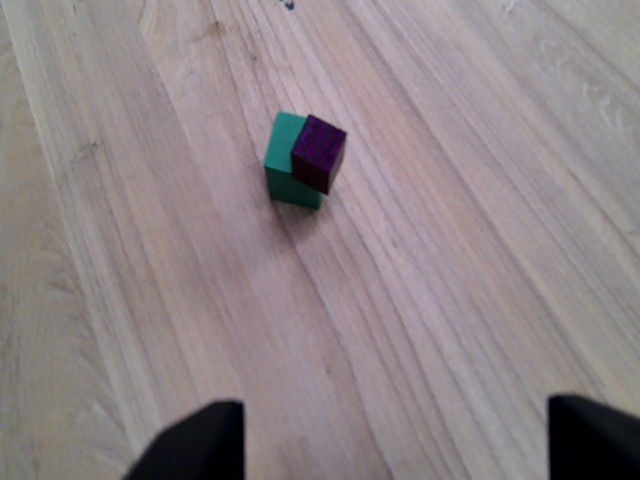brick: (289, 114, 350, 197)
